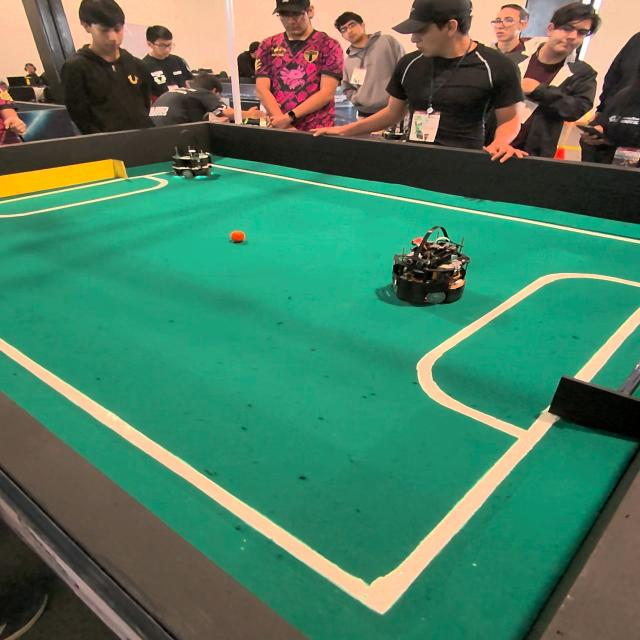Robot: (393, 226, 470, 312), (169, 125, 222, 186)
pelota: (233, 234, 245, 243)
